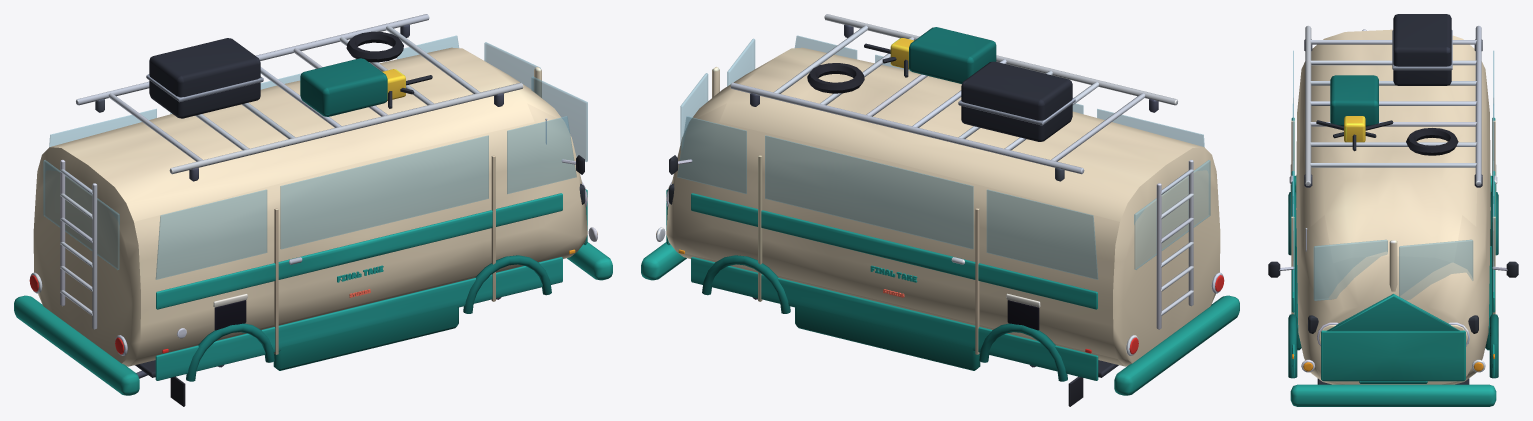
The model's file is SM_Veh_StudioVan_Body.fbx.
3 views of the same model, side by side, from view 1: azimuth 30°, elevation 25°; view 2: azimuth 150°, elevation 25°; view 3: azimuth 270°, elevation 25° (orthographic). The views are drawn at different scales.
Parts seen in each view (by area): view 1: SM_Veh_StudioVan_Body; view 2: SM_Veh_StudioVan_Body; view 3: SM_Veh_StudioVan_Body.
Boxes of the visible parts, x1,y1,x2,y2 form: SM_Veh_StudioVan_Body: (14,14,612,406); SM_Veh_StudioVan_Body: (641,14,1239,406); SM_Veh_StudioVan_Body: (1268,14,1518,406).
Bounding box in the file's own units: 532 × 286 × 258.
